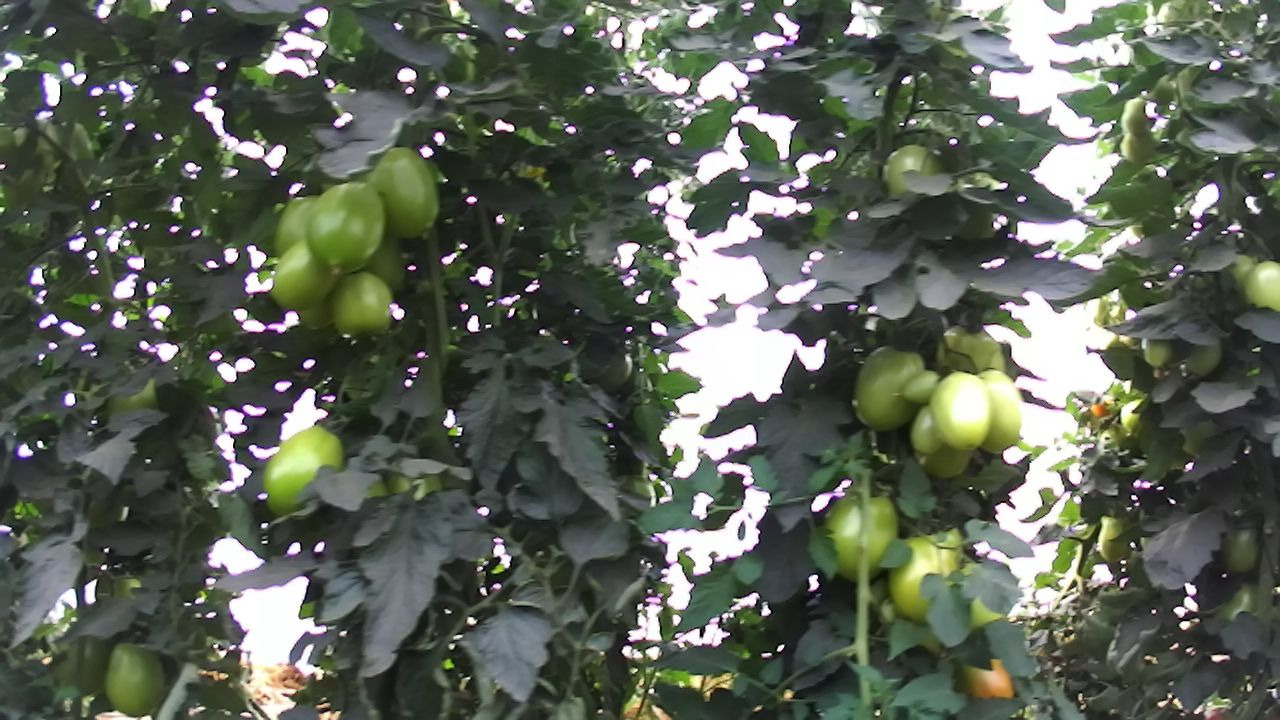tomato: (258, 422, 352, 520), (302, 177, 389, 275), (820, 488, 902, 586), (884, 533, 965, 630), (850, 340, 930, 434), (369, 142, 441, 240), (271, 235, 347, 315), (929, 367, 995, 455), (961, 367, 1025, 456), (327, 266, 396, 347), (100, 639, 169, 718), (1238, 253, 1280, 316), (903, 401, 944, 459), (893, 365, 942, 412), (1094, 511, 1131, 564)
